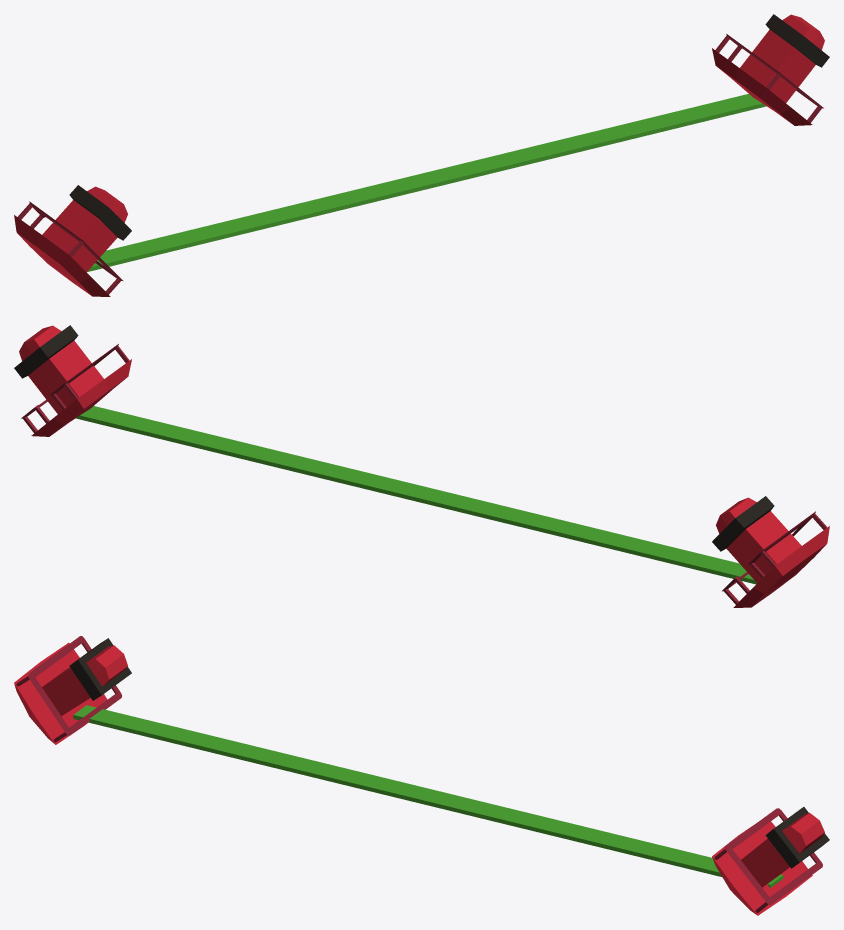
The model's file is Prop_Buoy_Vertical.obj.
3 views of the same model, one above another, from view 1: azimuth 30°, elevation 25°; view 2: azimuth 150°, elevation 25°; view 3: azimuth 330°, elevation 25° (orthographic).
Visible parts, largest first — view 1: Buoy; view 2: Buoy; view 3: Buoy.
Part boxes in pixels (box(x1,y1,x2,y2)): Buoy: box(14, 14, 829, 296); Buoy: box(14, 325, 829, 607); Buoy: box(14, 636, 829, 915).
Bounding box in the file's own units: 16.27 × 1.67 × 2.06.
Materials: 1 (1 with a texture image).
